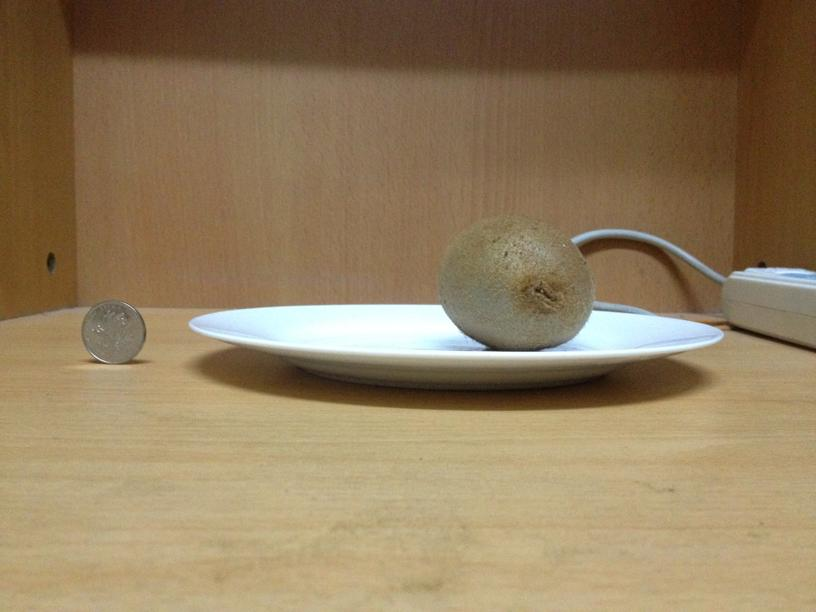coin: (82, 300, 145, 362)
qiwi: (438, 216, 593, 351)
